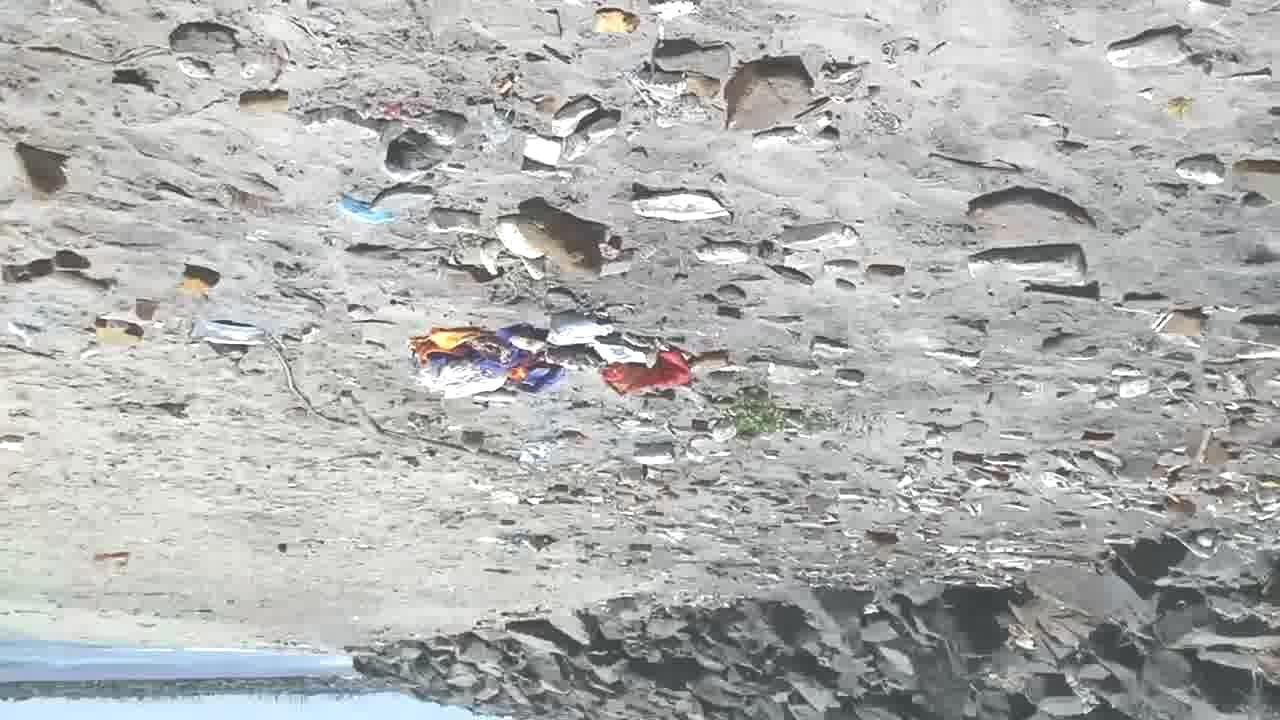large collection of objects: (548, 410, 1231, 578)
obj: (262, 337, 527, 469), (402, 313, 736, 404), (331, 79, 480, 182), (694, 382, 899, 446), (965, 172, 1112, 241), (511, 195, 614, 287), (712, 50, 818, 138), (630, 64, 710, 140), (1104, 20, 1204, 70), (146, 19, 256, 62), (13, 144, 76, 210), (186, 318, 266, 350), (167, 259, 224, 296), (110, 401, 193, 426), (332, 192, 398, 223), (586, 7, 642, 40), (236, 86, 296, 116), (91, 316, 145, 348)
sand/background: (0, 524, 1280, 719)
